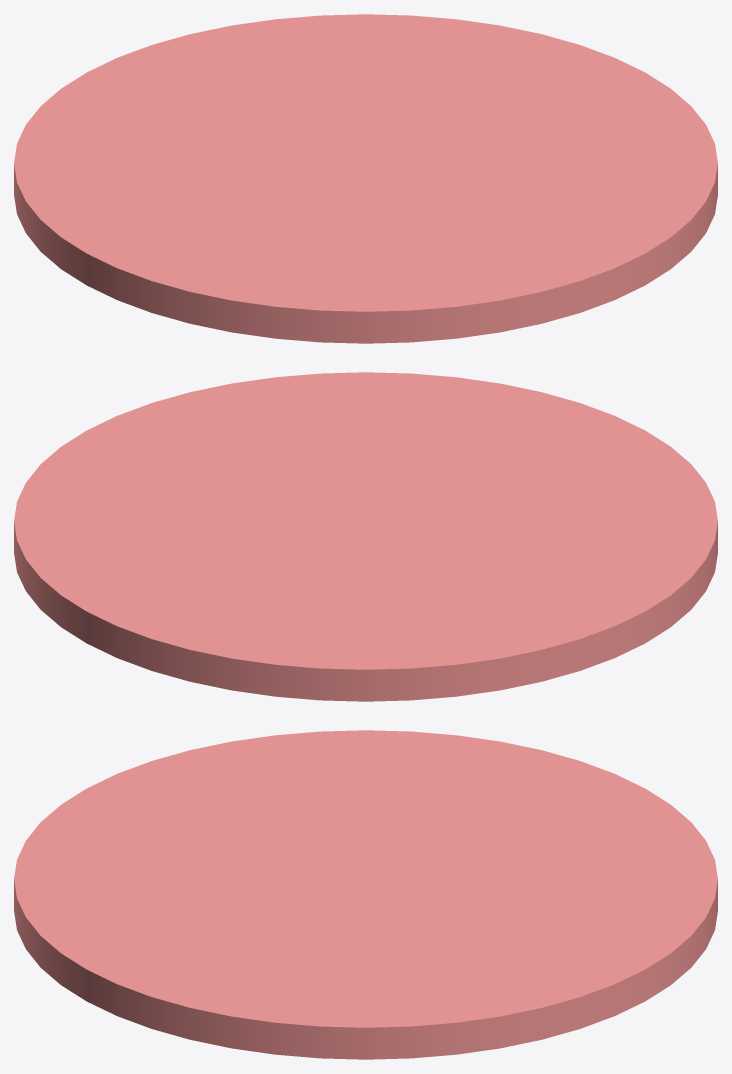
The model's file is RLV_1_Fairing_1.obj.
3 renders of one model, top to bottom at view 1: azimuth 30°, elevation 25°; view 2: azimuth 150°, elevation 25°; view 3: azimuth 270°, elevation 25°, orthographic.
Visible parts, largest first — view 1: RLV_1_Fairing_1; view 2: RLV_1_Fairing_1; view 3: RLV_1_Fairing_1.
Part boxes in pixels (bbox=[...]): RLV_1_Fairing_1: bbox=[14, 14, 717, 343]; RLV_1_Fairing_1: bbox=[14, 372, 717, 701]; RLV_1_Fairing_1: bbox=[14, 730, 717, 1059].
Size of the model in its own units: 5 by 0.25 by 5.
